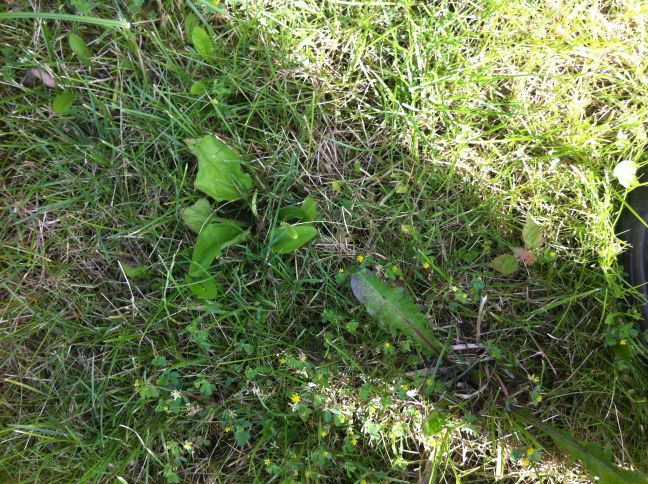weed1: (172, 128, 325, 287)
